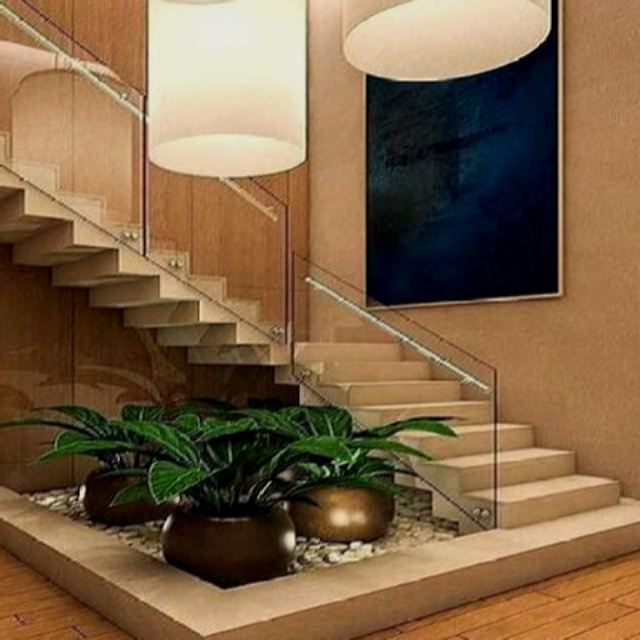stair: (280, 292, 631, 556), (1, 105, 325, 382)
